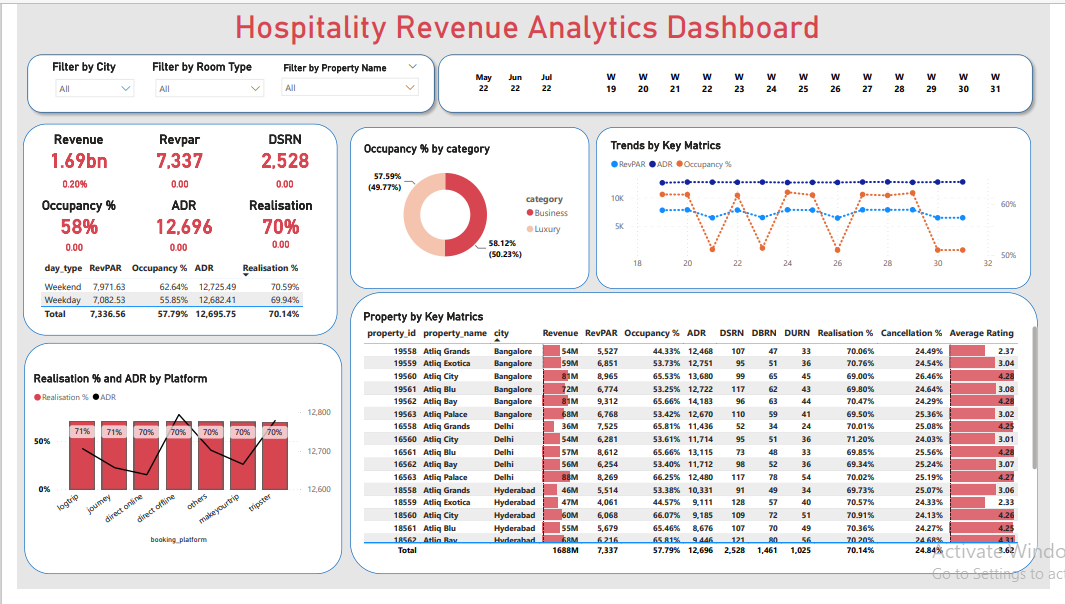

Layout of this report page (visuals, bound fields, positions):
{"tool":"powerbi","page":{"name":"Dash Board","canvas":[1550,900],"ordinal":0},"visuals":[{"type":"shape","box":[500.4,455.4,1031.4,423],"z":0},{"type":"shape","box":[869,206.9,653.4,243.1],"z":1000},{"type":"shape","box":[500,206.9,358.6,243.1],"z":2000},{"type":"shape","box":[10.8,531,477,347.4],"z":3000},{"type":"shape","box":[9,201.6,471.6,318.6],"z":4000},{"type":"lineChart","title":"Trends by Key Matrics","fields":{"Y":["key_measures.RevPAR","key_measures.ADR"],"Y2":["key_measures.Occupancy %"],"Category":["dim_date.Week_number_only"]},"box":[886.2,224.1,619,205.2],"z":5000},{"type":"card","title":"Revpar","fields":{"Values":["key_measures.RevPAR"]},"box":[185.9,214.1,116.5,60],"z":6000},{"type":"card","title":"Revenue","fields":{"Values":["key_measures.Revenue"]},"box":[38.8,214.1,107.1,60],"z":7000},{"type":"card","title":"DSRN","fields":{"Values":["key_measures.DSRN"]},"box":[352.9,214.1,98.8,60],"z":8000},{"type":"card","title":"Occupancy %","fields":{"Values":["key_measures.Occupancy %"]},"box":[30.6,312.9,124.7,60],"z":9000},{"type":"card","title":"ADR","fields":{"Values":["key_measures.ADR"]},"box":[198.8,312.9,103.5,60],"z":10000},{"type":"card","title":"Realisation","fields":{"Values":["key_measures.Realisation %"]},"box":[334.8,313.2,122.4,59.4],"z":11000},{"type":"tableEx","fields":{"Values":["dim_date.day_type","key_measures.RevPAR","key_measures.Occupancy %","key_measures.ADR","key_measures.Realisation %"]},"box":[30.6,403.2,426.6,104.4],"z":12000},{"type":"shape","box":[623.8,90.5,907.9,103.2],"z":13000},{"type":"lineStackedColumnComboChart","title":"Realisation % and ADR by Platform","fields":{"Category":["fact_bookings.booking_platform"],"Y":["key_measures.Realisation %"],"Y2":["key_measures.ADR"]},"box":[19.8,574.2,459,262.8],"z":14000},{"type":"slicer","title":"Filter by Room Type","fields":{"Values":["dim_date.week no"]},"box":[842.9,103.2,673,73],"z":15000},{"type":"shape","box":[7.9,90.5,627,103.2],"z":16000},{"type":"slicer","title":"Filter by City","fields":{"Values":["dim_hotels.city"]},"box":[47.6,106.3,138.1,58.7],"z":17000},{"type":"slicer","title":"Filter by Room Type","fields":{"Values":["dim_rooms.room_class"]},"box":[198.4,106.3,182.5,74.6],"z":18000},{"type":"tableEx","title":"Property by Key Matrics","fields":{"Values":["dim_hotels.property_id","dim_hotels.property_name","dim_hotels.city","key_measures.Revenue","key_measures.RevPAR","key_measures.Occupancy %","key_measures.ADR","key_measures.DSRN","key_measures.DBRN","key_measures.DURN","key_measures.Realisation %","key_measures.Cancellation %"]},"box":[514.8,480.6,1022.4,374.4],"z":19000},{"type":"donutChart","fields":{"Category":["dim_hotels.category"],"Y":["key_measures.Occupancy %"]},"box":[515.5,229.3,327.6,200],"z":20000},{"type":"slicer","fields":{"Values":["dim_hotels.property_name"]},"box":[387.3,104.8,225.4,63.5],"z":21000},{"type":"slicer","fields":{"Values":["dim_date.mmm yy"]},"box":[651.6,108,190.8,63],"z":22000},{"type":"card","fields":{"Values":["key_measures.\"Revenue WoW change %"]},"box":[54.1,274.1,65.9,38.8],"z":22001},{"type":"card","fields":{"Values":["key_measures.\"Revpar WoW change %"]},"box":[210.6,274.1,67.1,38.8],"z":22002},{"type":"card","fields":{"Values":["key_measures.\"DSRN WoW change %"]},"box":[360,274.1,83.5,38.8],"z":22003},{"type":"card","fields":{"Values":["key_measures.\"Occupancy WoW change %"]},"box":[54.1,372.9,63.5,30.6],"z":22004},{"type":"card","fields":{"Values":["key_measures.\"ADR WoW change %"]},"box":[209.4,372.9,67.1,30.6],"z":22005},{"type":"card","fields":{"Values":["key_measures.\"Realisation WoW change %"]},"box":[349.2,365.4,93.6,37.8],"z":22006},{"type":"textbox","title":"Hospitality Revenue Analytics Dashboard","box":[322.2,28.8,939.6,61.2],"z":22008}]}

Visuals, with their boxes on the page's 1550x900 design canvas (x1, y1, x2, y2). These are canvas units, not pixel positions in the 1065x604 screenshot, which may show the page scaled, cropped or inside an application window:
shape: 500 455 1532 878
shape: 869 207 1522 450
shape: 500 207 859 450
shape: 11 531 488 878
shape: 9 202 481 520
"Trends by Key Matrics" lineChart: 886 224 1505 429
"Revpar" card: 186 214 302 274
"Revenue" card: 39 214 146 274
"DSRN" card: 353 214 452 274
"Occupancy %" card: 31 313 155 373
"ADR" card: 199 313 302 373
"Realisation" card: 335 313 457 373
tableEx - dim_date.day_type x key_measures.RevPAR: 31 403 457 508
shape: 624 90 1532 194
"Realisation % and ADR by Platform" lineStackedColumnComboChart: 20 574 479 837
"Filter by Room Type" slicer: 843 103 1516 176
shape: 8 90 635 194
"Filter by City" slicer: 48 106 186 165
"Filter by Room Type" slicer: 198 106 381 181
"Property by Key Matrics" tableEx: 515 481 1537 855
donutChart - dim_hotels.category x key_measures.Occupancy %: 516 229 843 429
slicer - dim_hotels.property_name: 387 105 613 168
slicer - dim_date.mmm yy: 652 108 842 171
card - key_measures."Revenue WoW change %: 54 274 120 313
card - key_measures."Revpar WoW change %: 211 274 278 313
card - key_measures."DSRN WoW change %: 360 274 444 313
card - key_measures."Occupancy WoW change %: 54 373 118 404
card - key_measures."ADR WoW change %: 209 373 276 404
card - key_measures."Realisation WoW change %: 349 365 443 403
"Hospitality Revenue Analytics Dashboard" textbox: 322 29 1262 90
